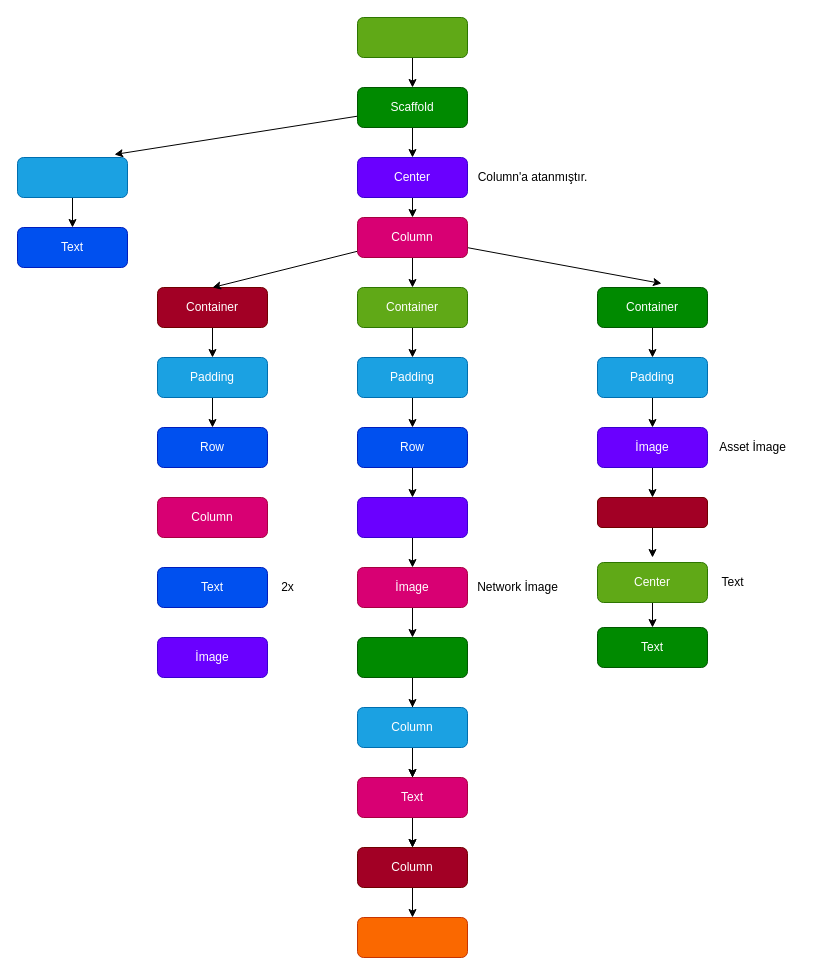
This 815x975 diagram has some shape labels left out. The shapes that lost their labels are listed below. From the top down, each one's box as (x1, y1, x2, y2) in pixels, then its label:
(356, 16, 468, 58): Category Page
(16, 156, 128, 198): App Bar
(356, 496, 468, 538): Main Axis
(596, 496, 708, 528): Fit
(356, 636, 468, 678): Size Box
(356, 916, 468, 958): İcon
